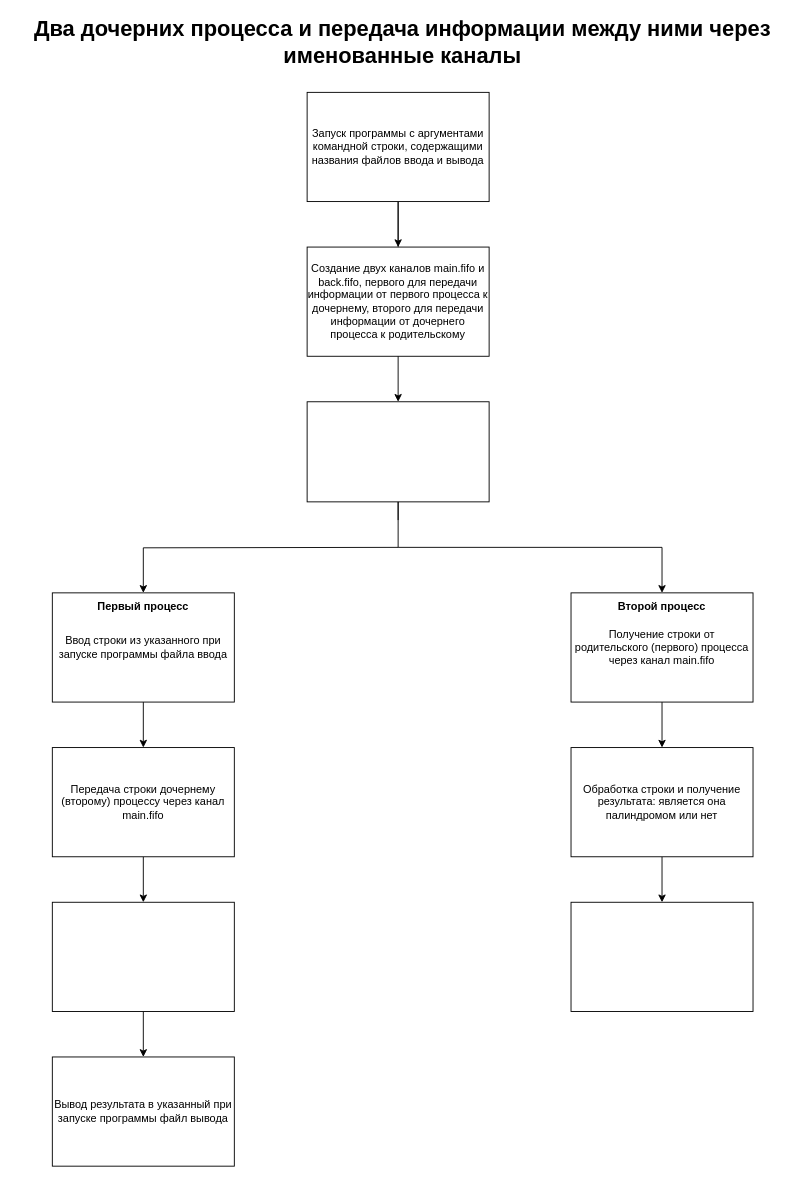
The diagram is 804 pixels wide and 1182 high, and some of its shapes have lost their labels. Here are the shapes that lost their labels. From the top down, the centre of each, then its label:
the point at 397,451: Создание дочернего процесса
the point at 142,956: Получение результата от дочернего (второго) процесса через канал back.fifo
the point at 661,956: Передача результата родительскому (первому) процессу через канал back.fifo
